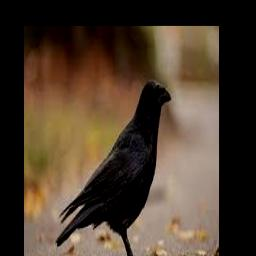Crow: (56, 79, 172, 256)
